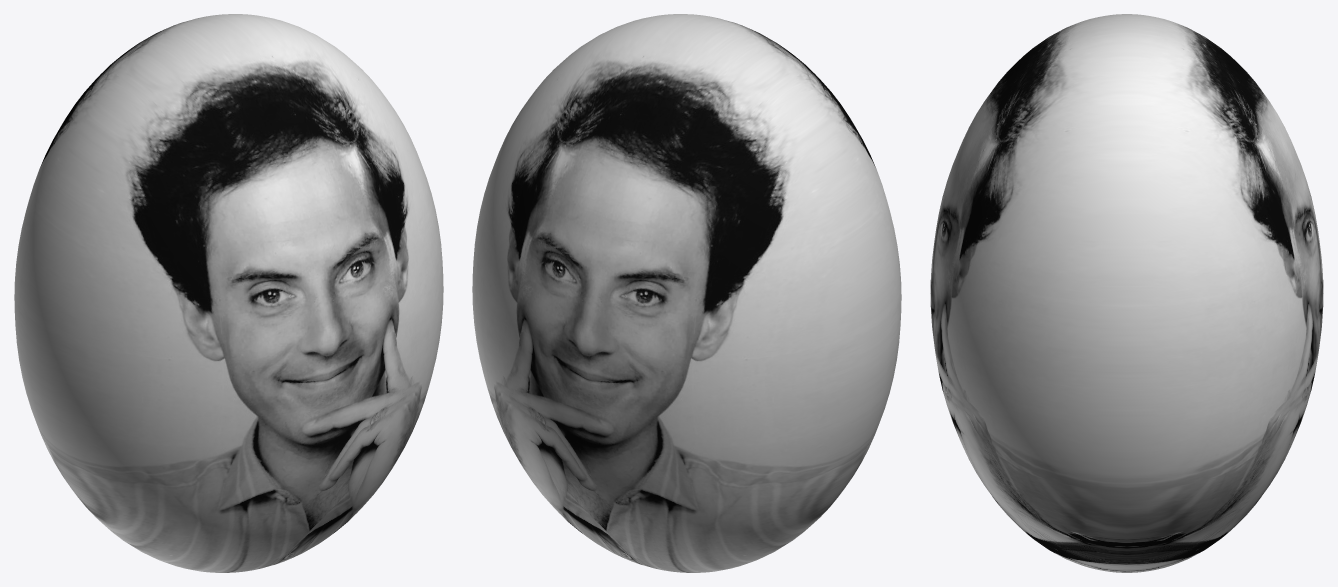
3 renders of one model, left to right at view 1: azimuth 30°, elevation 25°; view 2: azimuth 150°, elevation 25°; view 3: azimuth 270°, elevation 25°, orthographic.
Visible parts, largest first — view 1: head; view 2: head; view 3: head.
Boxes of the visible parts, <box> form: head: <box>14,14,443,572</box>; head: <box>472,14,901,572</box>; head: <box>930,14,1323,572</box>.
Size of the model in its own units: 1.5 by 2 by 1.35.
Materials: 1 (1 with a texture image).
